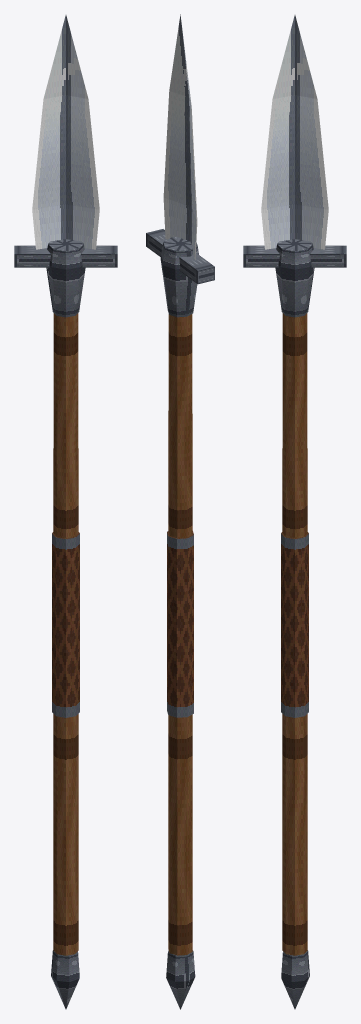
The model's file is lanca_de_prata.glb.
The picture shows the model from 3 angles, left to right: view 1: azimuth 90°, elevation 25°; view 2: azimuth 210°, elevation 25°; view 3: azimuth 270°, elevation 25°; orthographic projection.
Visible parts, largest first — view 1: lanca_de_prata; view 2: lanca_de_prata; view 3: lanca_de_prata.
Boxes of the visible parts, x1=… form: lanca_de_prata: x1=14, y1=15, x2=117, y2=1009; lanca_de_prata: x1=146, y1=14, x2=214, y2=1009; lanca_de_prata: x1=243, y1=15, x2=346, y2=1009.
Size of the model in its own units: 0.088 by 2.34 by 0.22.
Materials: 1 (1 with a texture image).
